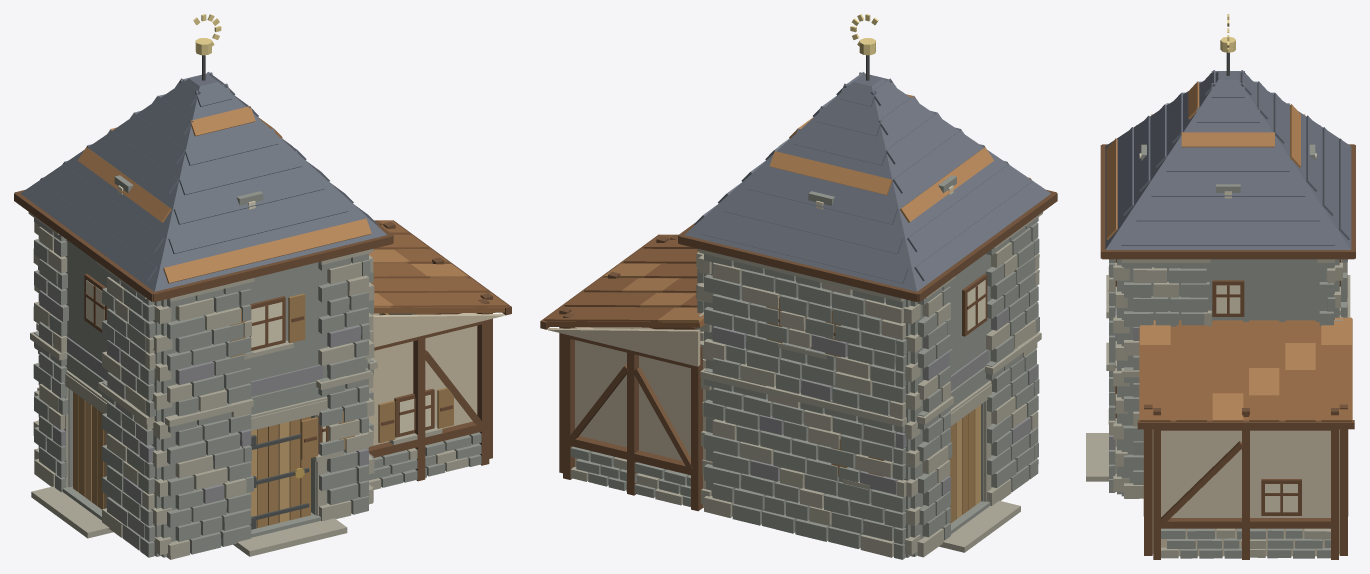
Rendered from holm_mage_tower_v1.glb.
3 renders of one model, left to right at view 1: azimuth 30°, elevation 25°; view 2: azimuth 150°, elevation 25°; view 3: azimuth 270°, elevation 25°, orthographic. The views are drawn at different scales.
Parts seen in each view (by area): view 1: Roof_Tower_Slate_Dark, Static_Workyard_Fieldstone, Roof_Workyard_Fieldstone, Static_Workyard_Fieldstone_Light, Roof_Workyard_Fieldstone_Light, Roof_Workyard_Shingle_Sun, Static_Workyard_Oak_Dark, Roof_Workyard_Oak_Dark, Static_Workyard_Warm_Limewash, Roof_Workyard_Shingle_Umber, south_door_Workyard_Oak_Worn, Static_Tower_Stone_Dark (+10 smaller); view 2: Roof_Tower_Slate_Dark, Static_Workyard_Fieldstone, Roof_Workyard_Fieldstone, Static_Workyard_Fieldstone_Light, Roof_Workyard_Fieldstone_Light, Static_Workyard_Oak_Dark, Static_Workyard_Warm_Limewash, Roof_Workyard_Shingle_Umber, Roof_Workyard_Shingle_Sun, Roof_Workyard_Oak_Dark, Roof_Workyard_Warm_Limewash, Static_Tower_Stone_Dark (+4 smaller); view 3: Roof_Tower_Slate_Dark, Roof_Workyard_Shingle_Umber, Roof_Workyard_Fieldstone, Static_Workyard_Warm_Limewash, Static_Workyard_Oak_Dark, Roof_Workyard_Shingle_Sun, Static_Workyard_Fieldstone, Roof_Workyard_Oak_Dark, Static_Workyard_Fieldstone_Light, Roof_Workyard_Fieldstone_Light, Static_Workyard_Chalk, Roof_Workyard_Chalk.
Part boxes in pixels (bbox=[...]): Roof_Tower_Slate_Dark: bbox=[20, 72, 386, 291]; Static_Workyard_Fieldstone: bbox=[34, 331, 481, 557]; Roof_Workyard_Fieldstone: bbox=[34, 138, 373, 417]; Static_Workyard_Fieldstone_Light: bbox=[30, 323, 468, 559]; Roof_Workyard_Fieldstone_Light: bbox=[28, 212, 374, 414]; Roof_Workyard_Shingle_Sun: bbox=[77, 106, 468, 307]; Static_Workyard_Oak_Dark: bbox=[304, 220, 492, 481]; Roof_Workyard_Oak_Dark: bbox=[14, 189, 511, 350]; Static_Workyard_Warm_Limewash: bbox=[368, 313, 477, 450]; Roof_Workyard_Shingle_Umber: bbox=[371, 220, 507, 313]; south_door_Workyard_Oak_Worn: bbox=[257, 416, 310, 527]; Static_Tower_Stone_Dark: bbox=[38, 336, 368, 504]; Roof_Tower_Slate_Dark: bbox=[684, 72, 1050, 291]; Static_Workyard_Fieldstone: bbox=[570, 347, 1039, 559]; Roof_Workyard_Fieldstone: bbox=[696, 138, 1039, 416]; Static_Workyard_Fieldstone_Light: bbox=[570, 332, 1041, 557]; Roof_Workyard_Fieldstone_Light: bbox=[696, 212, 1042, 419]; Static_Workyard_Oak_Dark: bbox=[559, 234, 854, 511]; Static_Workyard_Warm_Limewash: bbox=[575, 327, 705, 507]; Roof_Workyard_Shingle_Umber: bbox=[544, 234, 705, 327]; Roof_Workyard_Shingle_Sun: bbox=[603, 94, 1031, 321]; Roof_Workyard_Oak_Dark: bbox=[540, 189, 1057, 348]; Roof_Workyard_Warm_Limewash: bbox=[546, 328, 700, 366]; Static_Tower_Stone_Dark: bbox=[750, 349, 1038, 496]; Roof_Tower_Slate_Dark: bbox=[1105, 70, 1351, 249]; Roof_Workyard_Shingle_Umber: bbox=[1139, 318, 1352, 421]; Roof_Workyard_Fieldstone: bbox=[1108, 144, 1347, 370]; Static_Workyard_Warm_Limewash: bbox=[1152, 429, 1339, 556]; Static_Workyard_Oak_Dark: bbox=[1115, 386, 1348, 559]; Roof_Workyard_Shingle_Sun: bbox=[1106, 81, 1351, 421]; Static_Workyard_Fieldstone: bbox=[1108, 300, 1330, 558]; Roof_Workyard_Oak_Dark: bbox=[1100, 144, 1355, 429]; Static_Workyard_Fieldstone_Light: bbox=[1086, 275, 1350, 558]; Roof_Workyard_Fieldstone_Light: bbox=[1108, 259, 1347, 360]; Static_Workyard_Chalk: bbox=[1265, 484, 1297, 512]; Roof_Workyard_Chalk: bbox=[1139, 153, 1316, 313].
Size of the model in its own units: 11.68 by 13.55 by 7.59.
